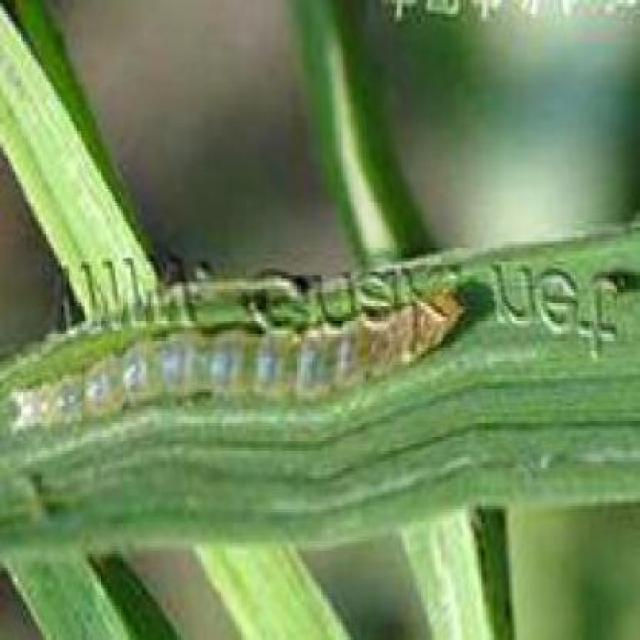leaf-folder: (20, 297, 478, 415)
